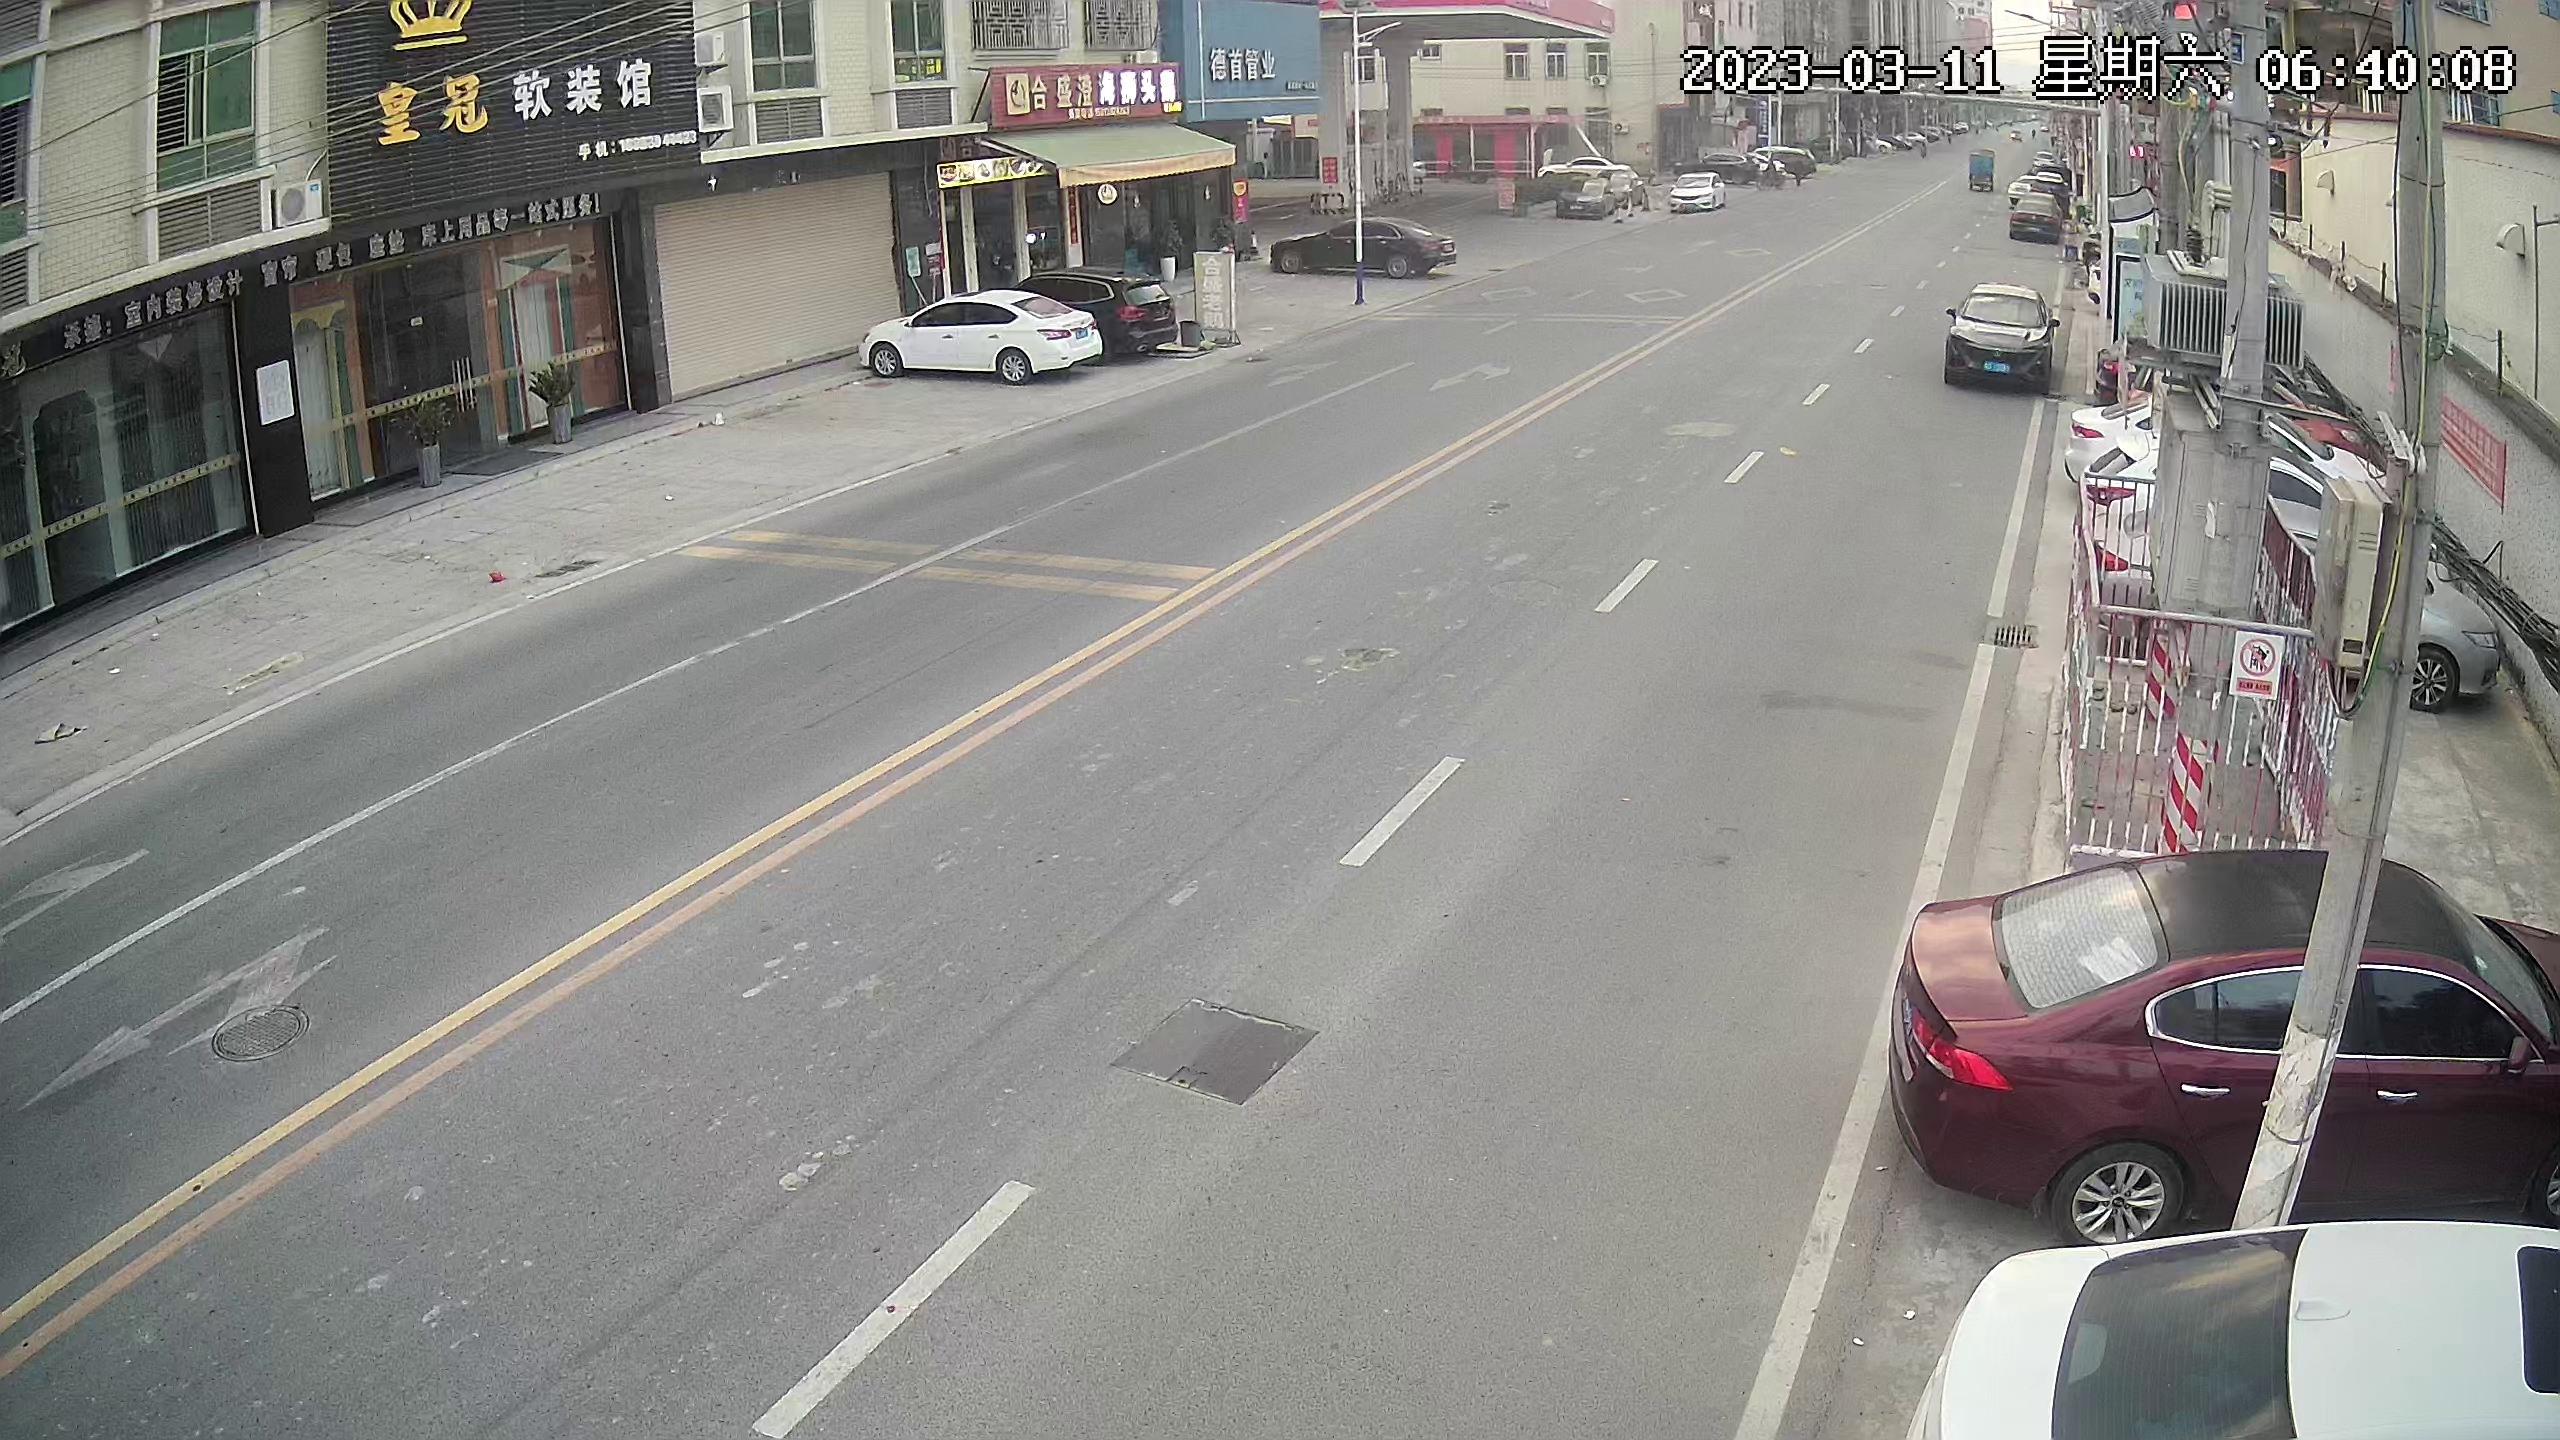sedan: (1888, 839, 2560, 1224), (1904, 1233, 2560, 1440), (2108, 519, 2513, 705), (2089, 434, 2391, 520), (862, 297, 1095, 376), (1273, 220, 1459, 285), (1953, 283, 2057, 397), (1672, 171, 1735, 218), (2013, 186, 2064, 244), (1560, 176, 1614, 223), (1772, 135, 1809, 183)
suv: (1065, 267, 1173, 348)
tricycle: (1966, 142, 1996, 199)
